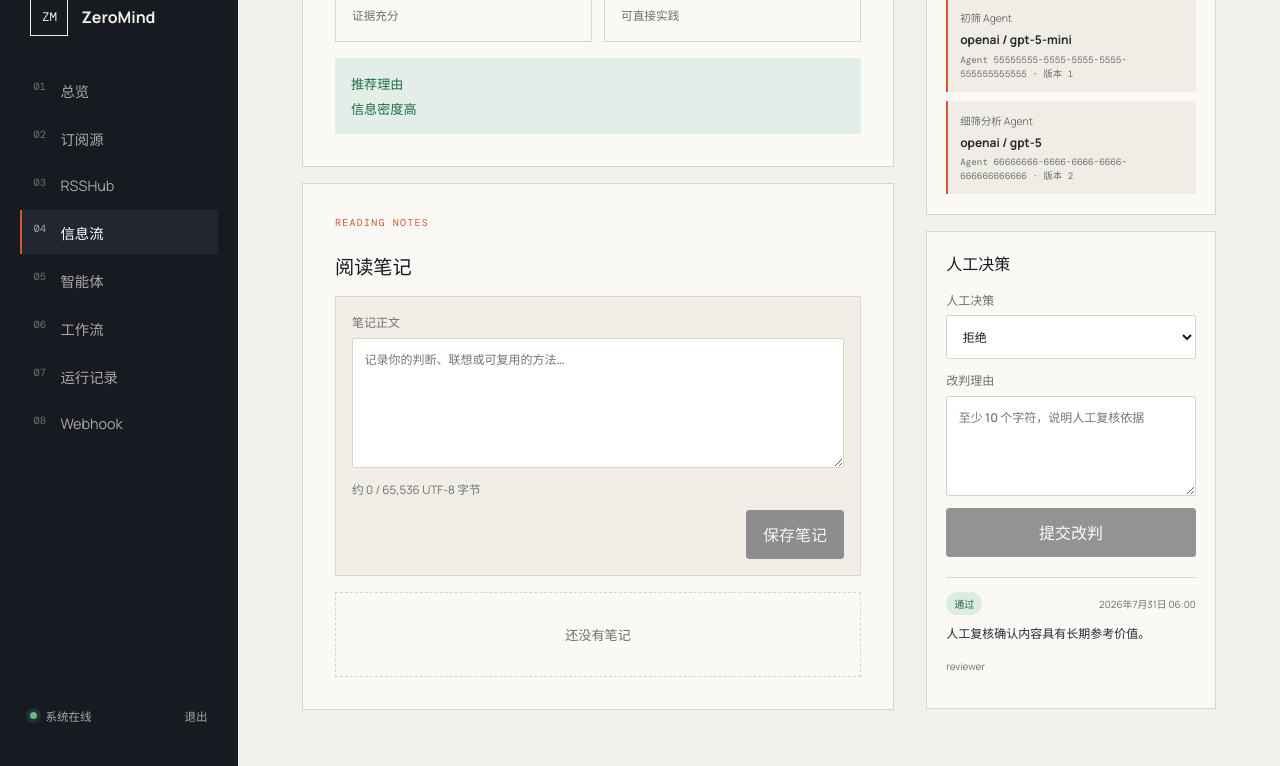
Test: ZeroMind administration › creates, edits, and deletes a reading note from analysis details
(page scrolled)
Expected: the text "还没有笔记" is shown, [335,592,861,677]
Type "这条评分规则可以用于项目评审。" into the text box labelled "笔记正文" at (598, 403), box [352,338,844,468]
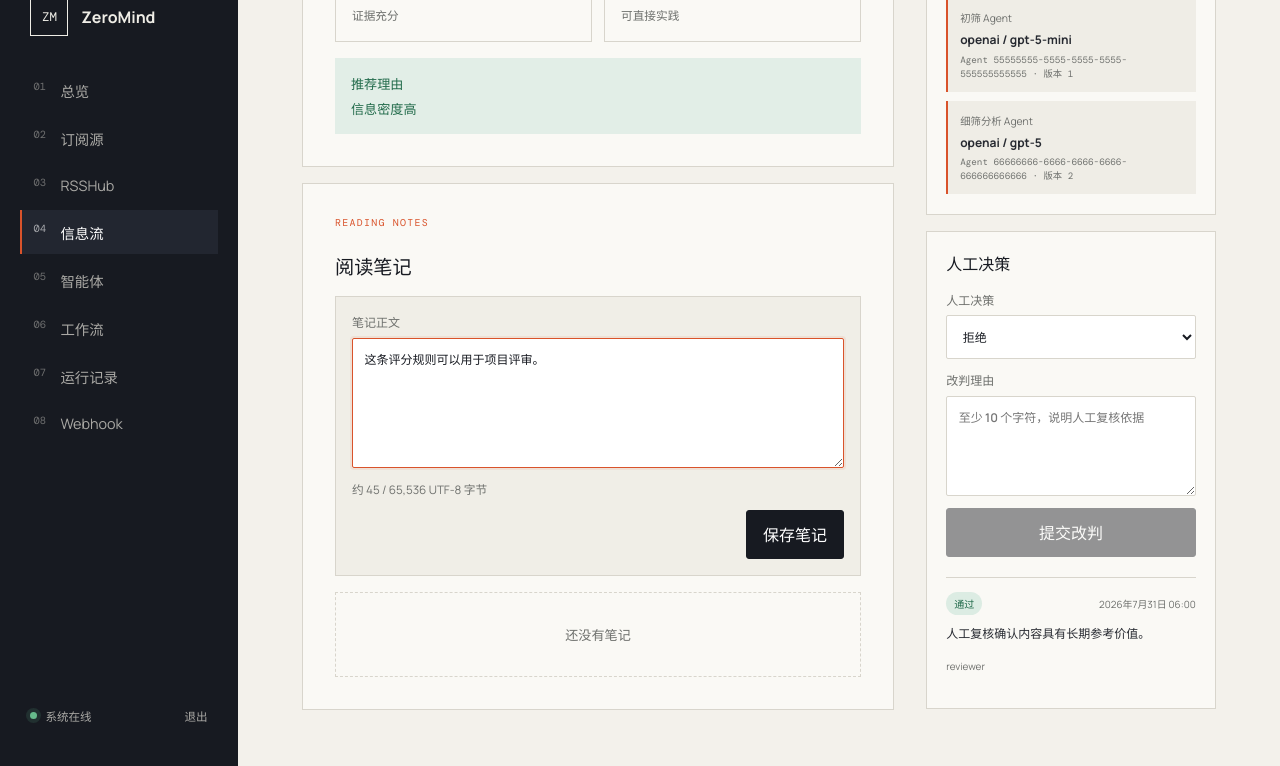
Click the button "保存笔记" at (795, 534), box [746,510,844,559]
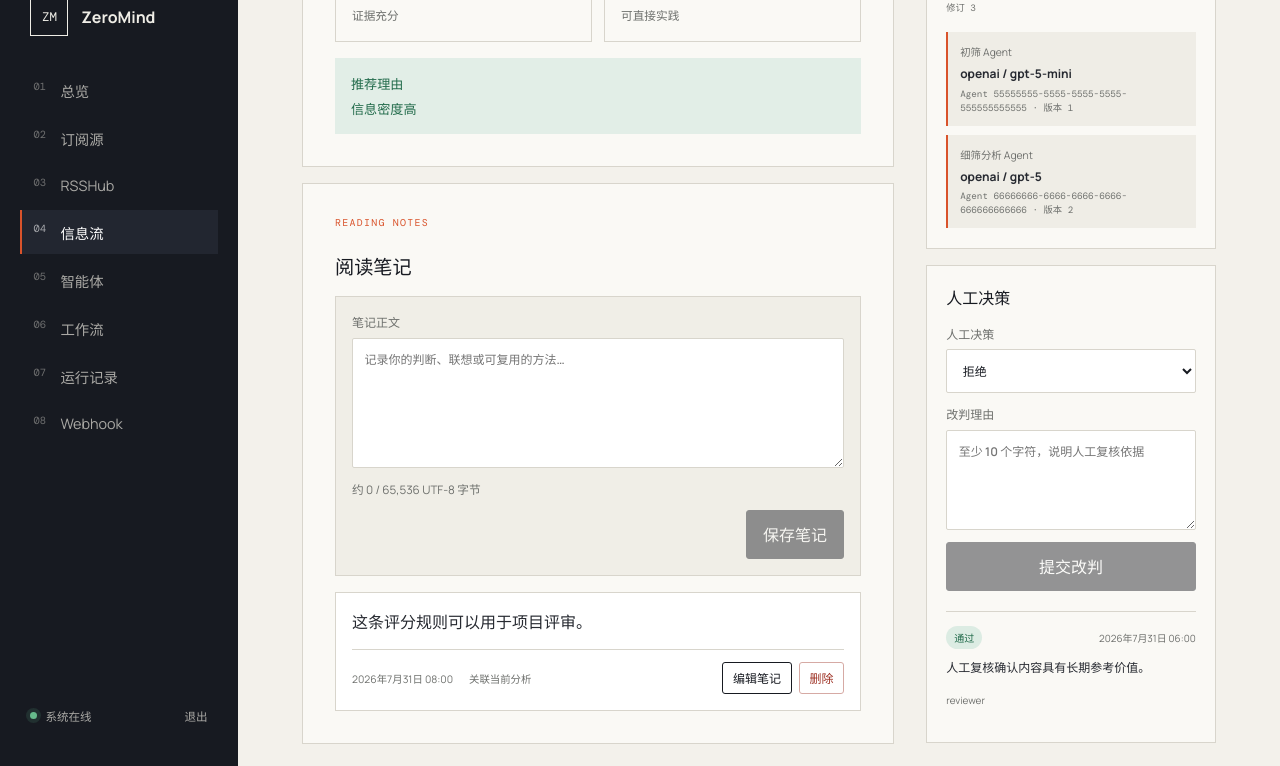
Expected: the text "这条评分规则可以用于项目评审。" is shown, [352,611,592,633]
Click the button "编辑笔记" at (757, 678), box [722,662,792,694]
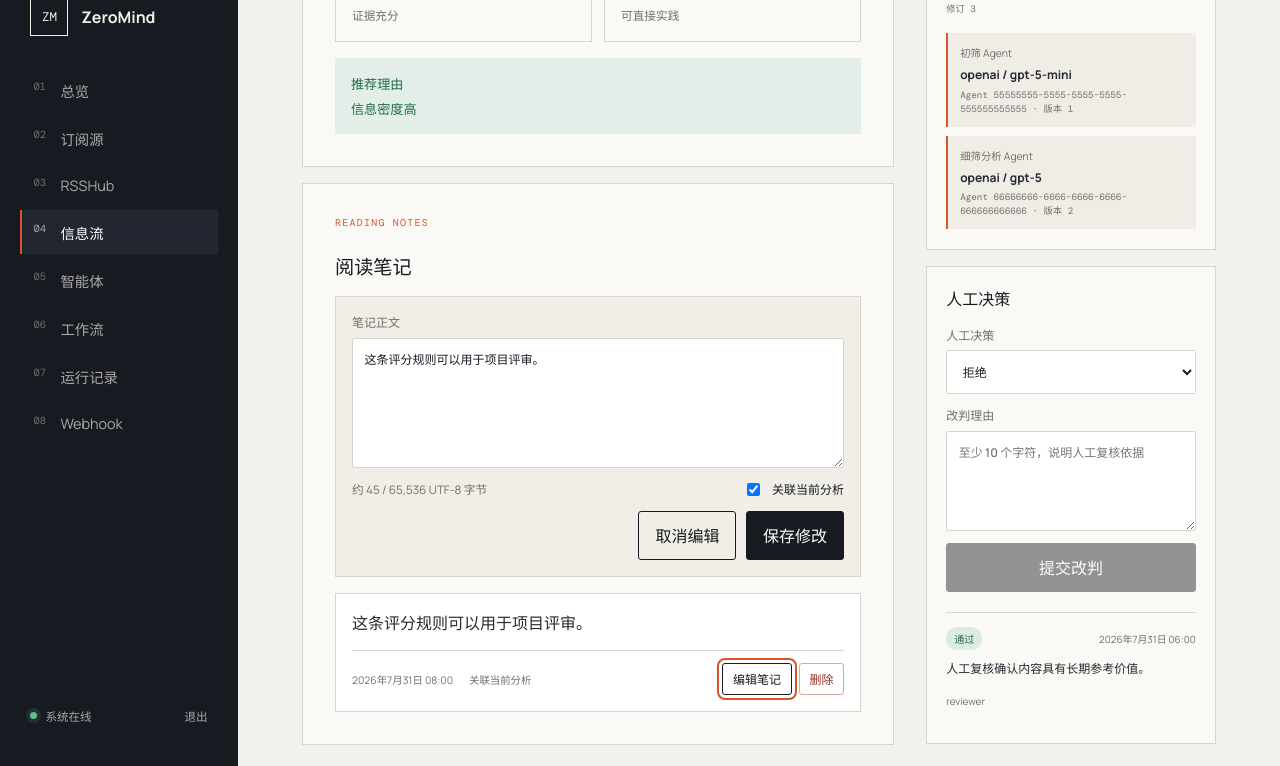
Replace the text in the text box labelled "笔记正文" with "更新后的项目评审规则。" at (598, 403), box [352,338,844,468]
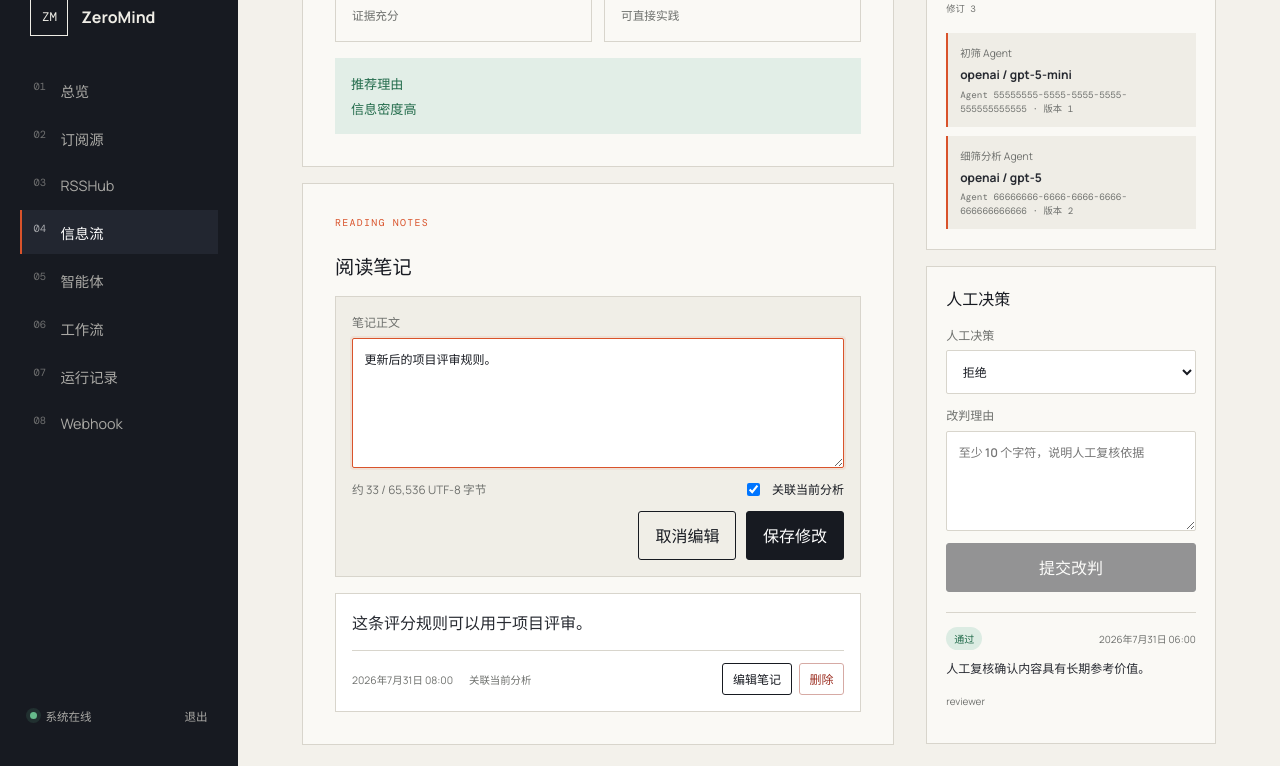
Click the button "保存修改" at (795, 535), box [746,511,844,560]
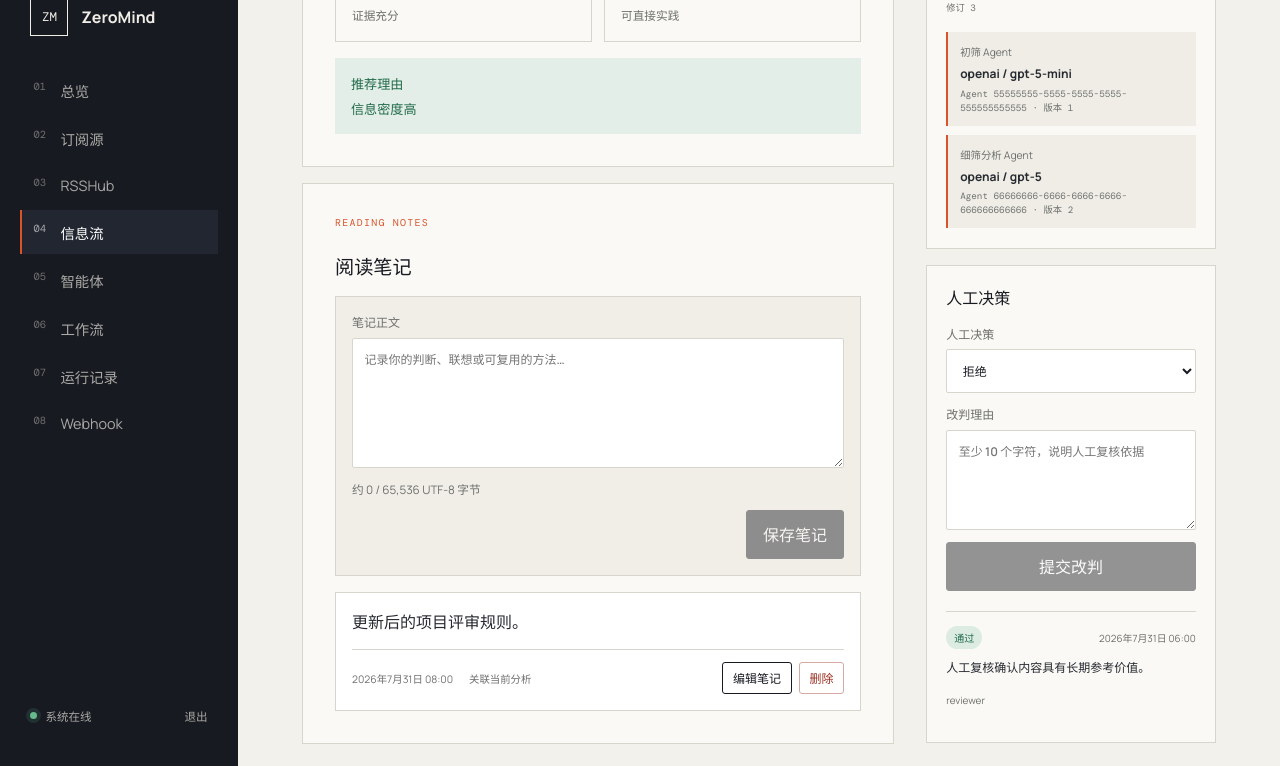
Expected: the text "更新后的项目评审规则。" is shown, [352,611,528,633]
Click the button with aria-label "删除笔记" at (821, 678), box [799,662,844,694]
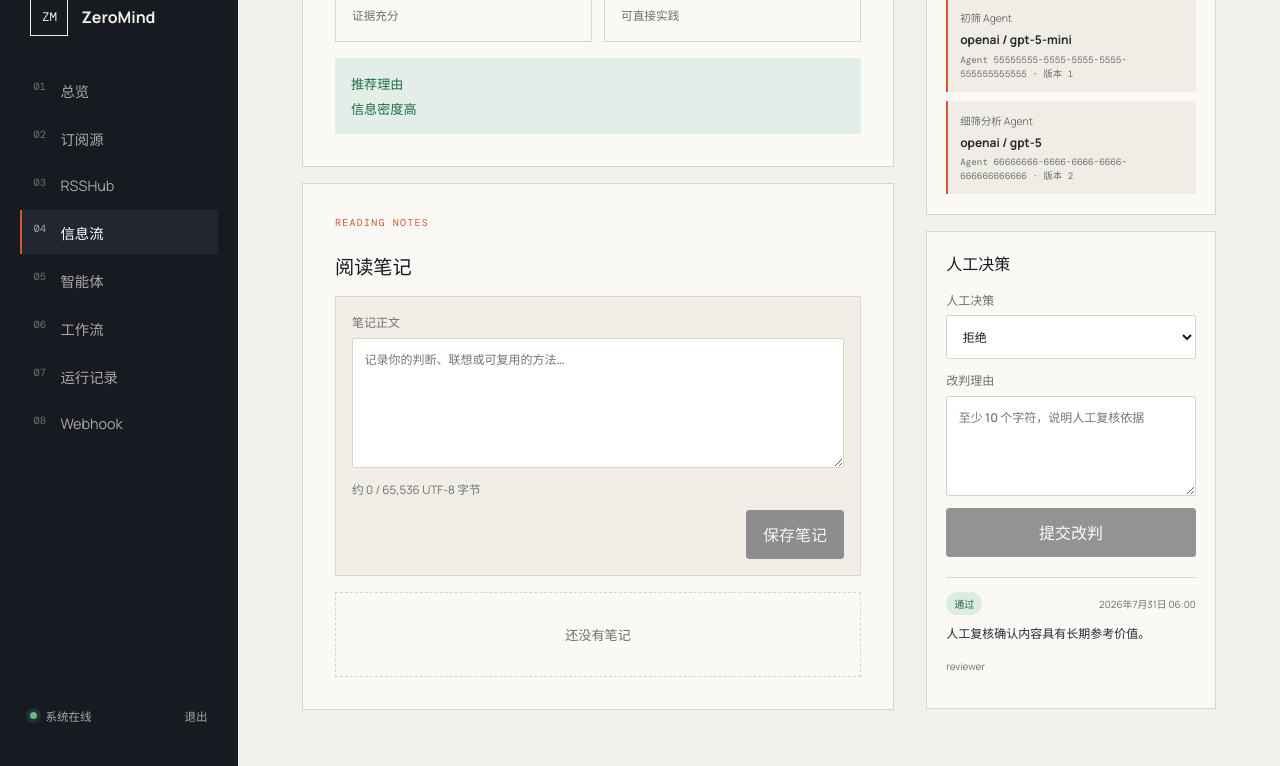
Expected: the text "更新后的项目评审规则。" is gone
Expected: the text "还没有笔记" is shown, [335,592,861,677]
